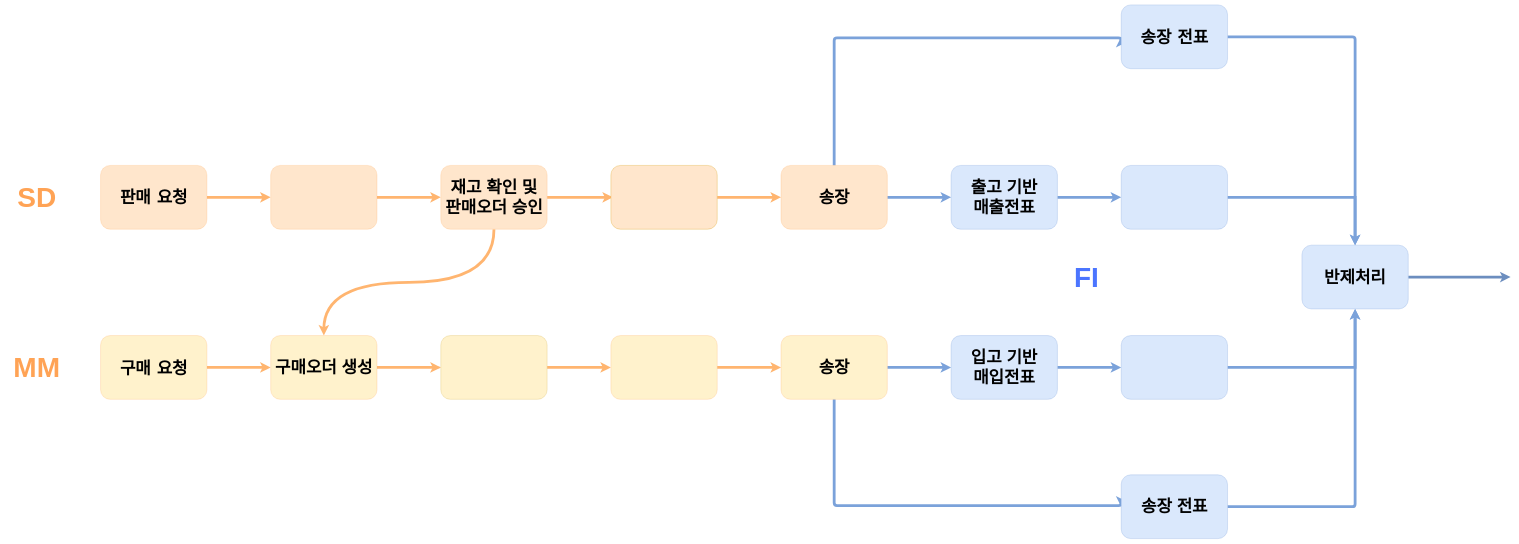
The diagram is 1519 pixels wide and 544 high, and some of its shapes have lost their labels. The centre of each missing label's shape, as x and y in pixels:
"구매오더 승인" goes at pixel 494 367.
"수금" goes at pixel 1174 197.
"입고" goes at pixel 664 367.
"지급" goes at pixel 1174 367.
"출고" goes at pixel 664 197.
"판매오더 생성" goes at pixel 323 197.
